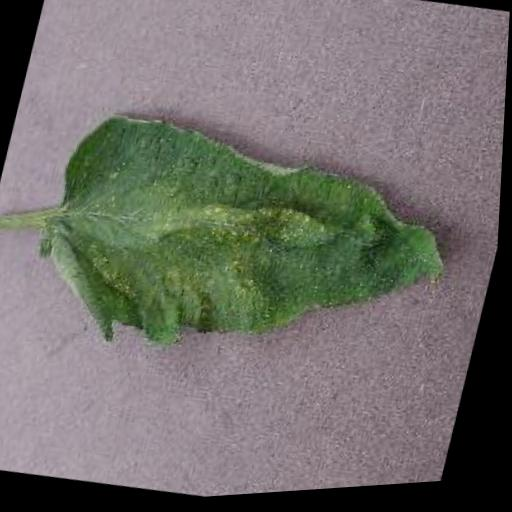Spider Mites: (19, 88, 478, 410)
